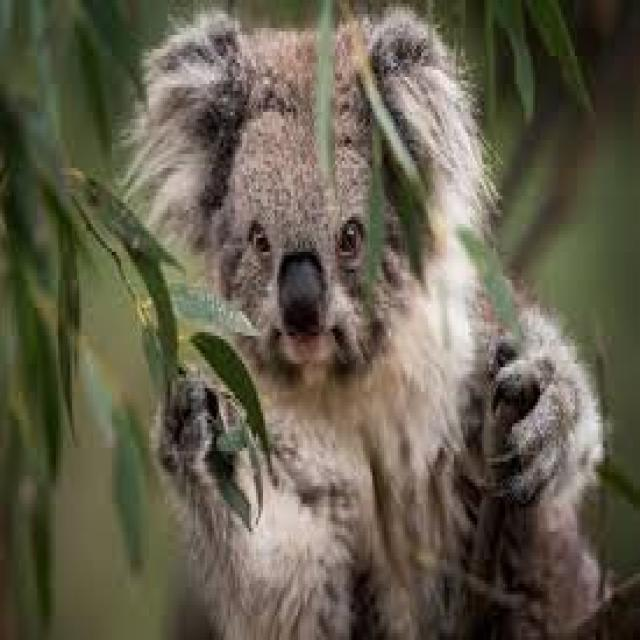Koala: (114, 1, 605, 637)
